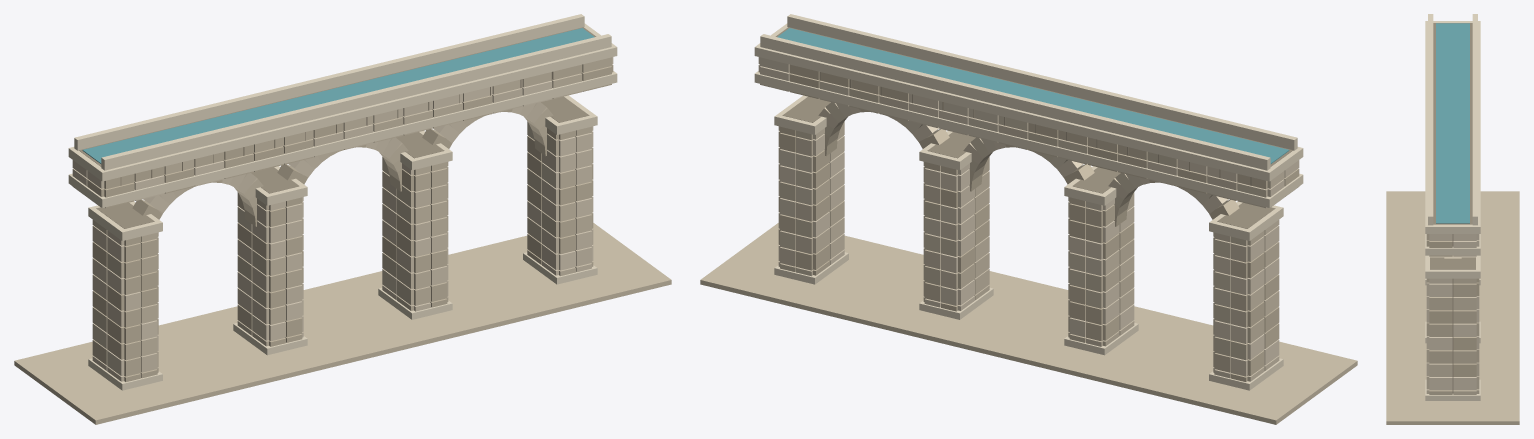
The picture shows the model from 3 angles, left to right: view 1: azimuth 30°, elevation 25°; view 2: azimuth 150°, elevation 25°; view 3: azimuth 270°, elevation 25°; orthographic projection. The views are drawn at different scales.
Visible parts, largest first — view 1: Bergfried – Steine, Säulen, Ziegel und Feuerstelle; view 2: Bergfried – Steine, Säulen, Ziegel und Feuerstelle; view 3: Bergfried – Steine, Säulen, Ziegel und Feuerstelle.
Part boxes in pixels (x1,y1,x2,y2): Bergfried – Steine, Säulen, Ziegel und Feuerstelle: (14, 14, 671, 424); Bergfried – Steine, Säulen, Ziegel und Feuerstelle: (700, 14, 1357, 424); Bergfried – Steine, Säulen, Ziegel und Feuerstelle: (1386, 14, 1519, 424).
Bounding box in the file's own units: 1590 × 628 × 390.
